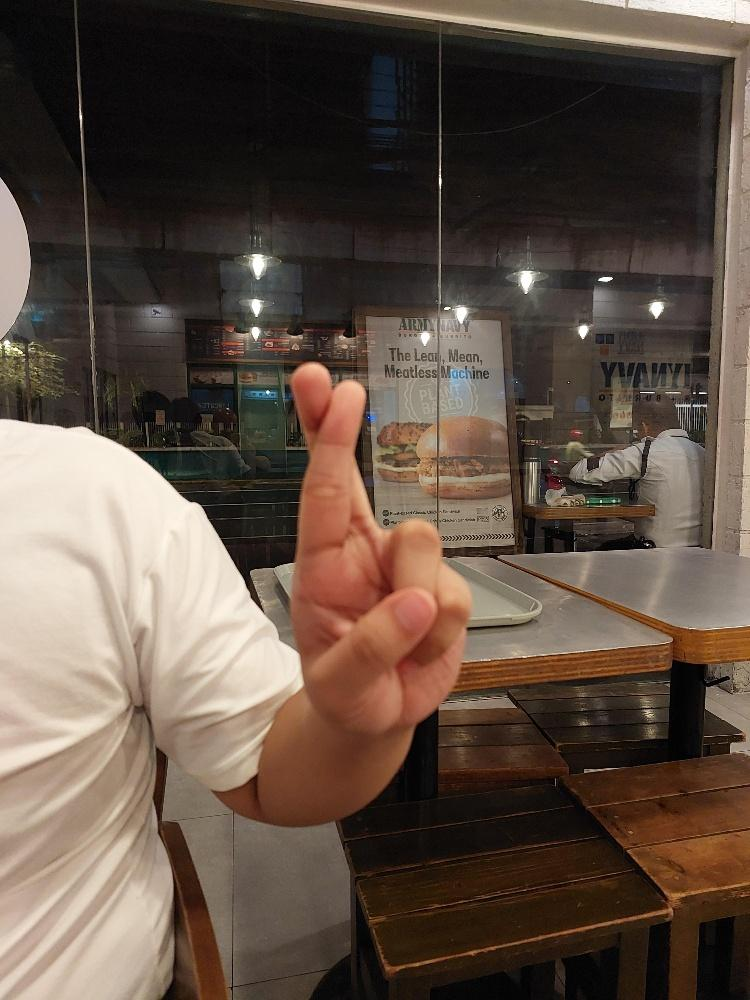r: (289, 359, 471, 733)
